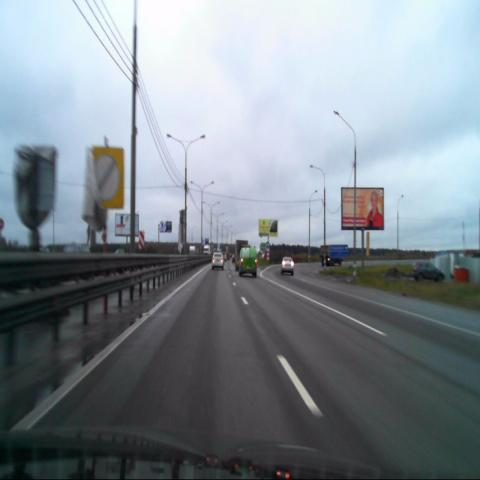3_31: (91, 146, 124, 209)
